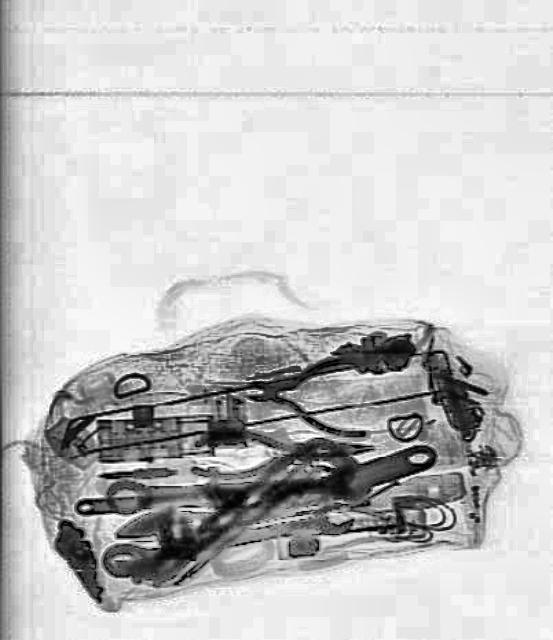Pliers: (186, 416, 372, 482), (244, 352, 370, 436)
Wrench: (224, 494, 358, 554)
